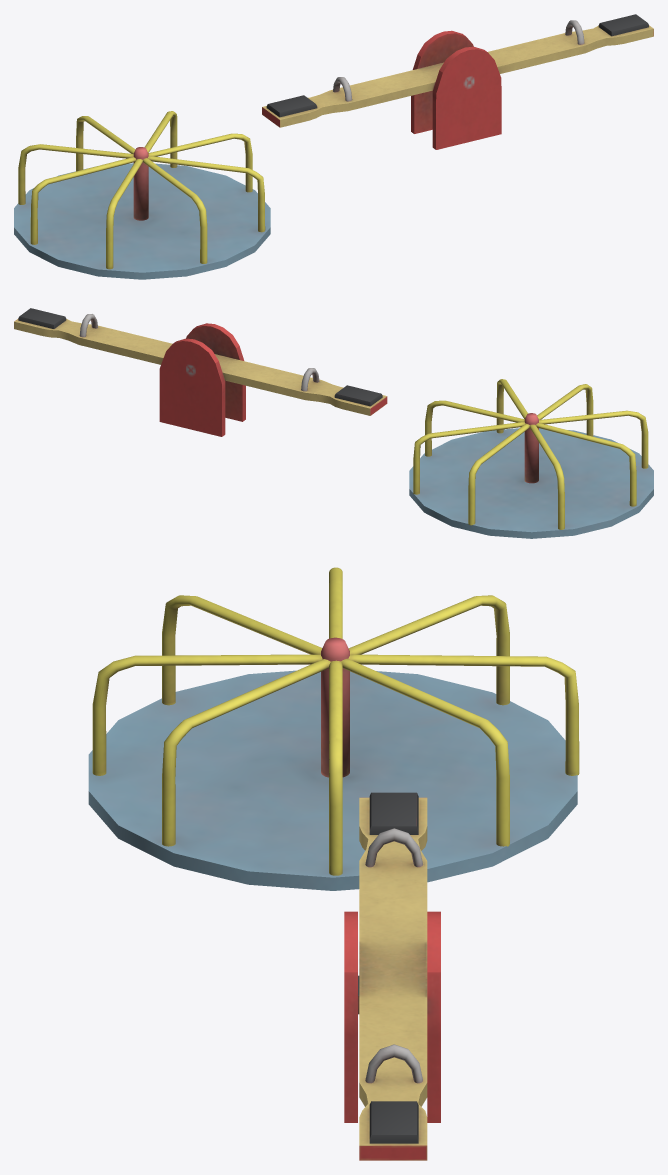
The model's file is roundaboutandseesaw.fbx.
3 renders of one model, top to bottom at view 1: azimuth 30°, elevation 25°; view 2: azimuth 150°, elevation 25°; view 3: azimuth 270°, elevation 25°, orthographic. The views are drawn at different scales.
Visible parts, largest first — view 1: rondaboutbase, seesawframe; view 2: rondaboutbase, seesawframe; view 3: rondaboutbase, seesawframe.
Boxes of the visible parts, <box> form: rondaboutbase: <box>14,111,270,279</box>; seesawframe: <box>262,14,653,149</box>; rondaboutbase: <box>409,379,653,538</box>; seesawframe: <box>14,308,387,436</box>; rondaboutbase: <box>88,567,579,890</box>; seesawframe: <box>344,792,440,1160</box>.
Size of the model in its own units: 297 by 41.43 by 105.
